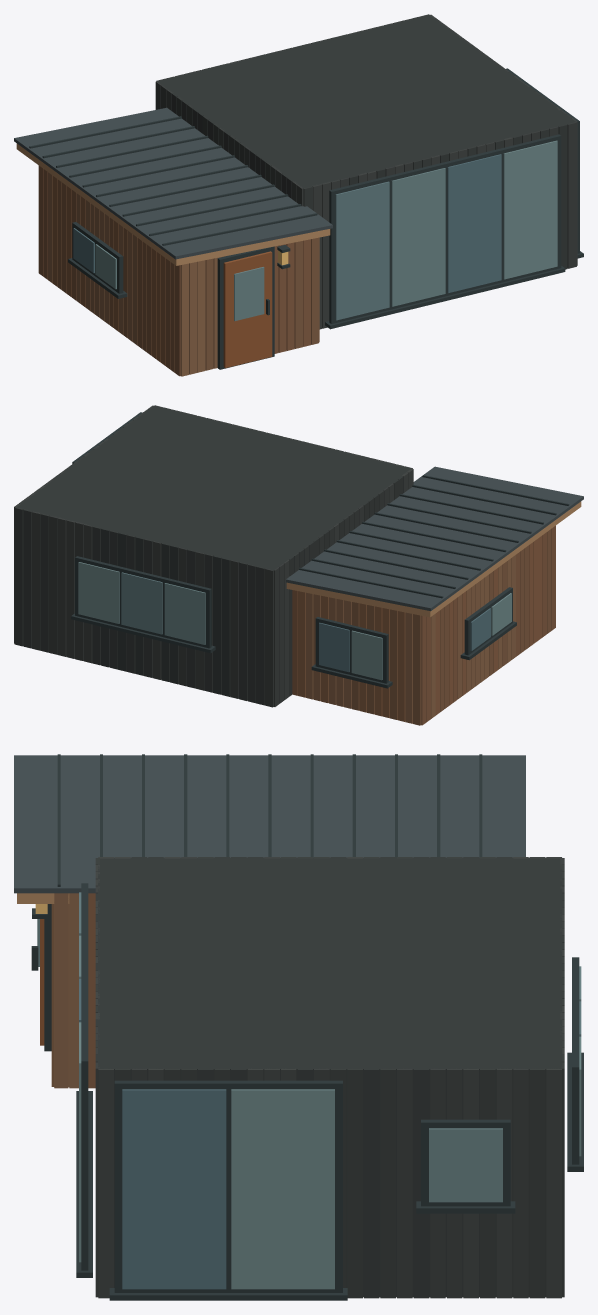
Rendered from contemporary.glb.
3 views of the same model, one above another, from view 1: azimuth 30°, elevation 25°; view 2: azimuth 150°, elevation 25°; view 3: azimuth 270°, elevation 25° (orthographic). The views are drawn at different scales.
Visible parts, largest first — view 1: KitContemporarySiding, KitContemporaryDetails, KitContemporaryRoofFinish; view 2: KitContemporarySiding, KitContemporaryDetails, KitContemporaryRoofFinish; view 3: KitContemporarySiding, KitContemporaryDetails, KitContemporaryRoofFinish.
Part boxes in pixels (x1,y1,x2,y2): KitContemporarySiding: (38, 14, 577, 376); KitContemporaryDetails: (16, 68, 583, 369); KitContemporaryRoofFinish: (14, 107, 332, 259); KitContemporarySiding: (14, 405, 555, 725); KitContemporaryDetails: (71, 412, 581, 688); KitContemporaryRoofFinish: (286, 466, 583, 611); KitContemporarySiding: (51, 857, 564, 1298); KitContemporaryDetails: (17, 754, 583, 1300); KitContemporaryRoofFinish: (14, 755, 525, 893).
Size of the model in its own units: 9.14 by 2.87 by 6.49.
